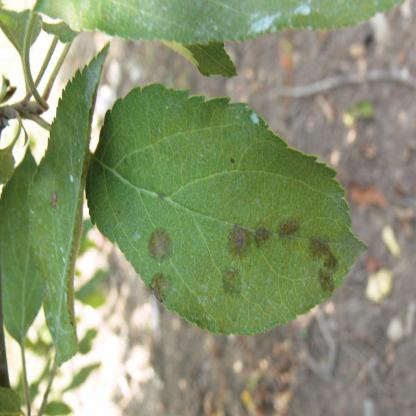apple scab leaf: (85, 78, 379, 349), (26, 36, 110, 390)
